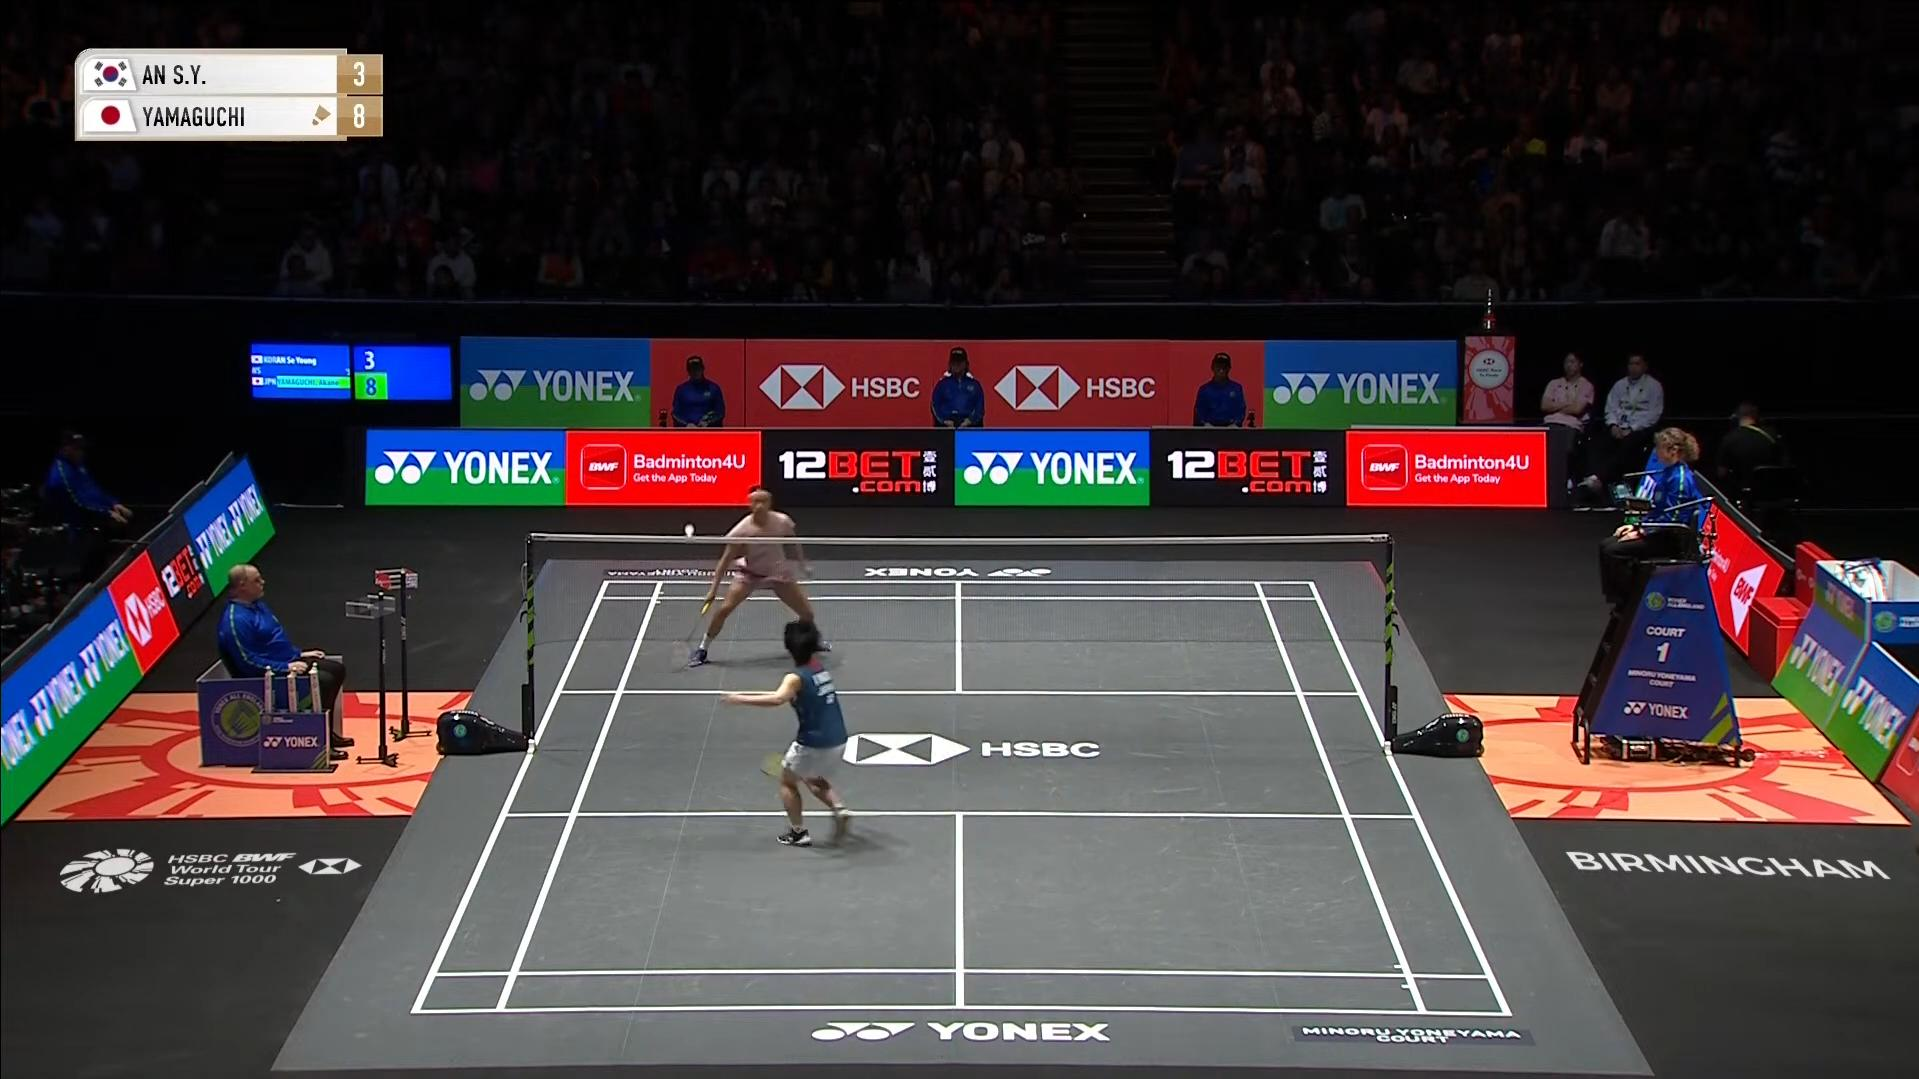shuttle: (681, 520, 701, 545)
